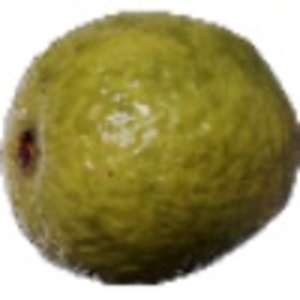goiaba: (3, 14, 294, 284)
